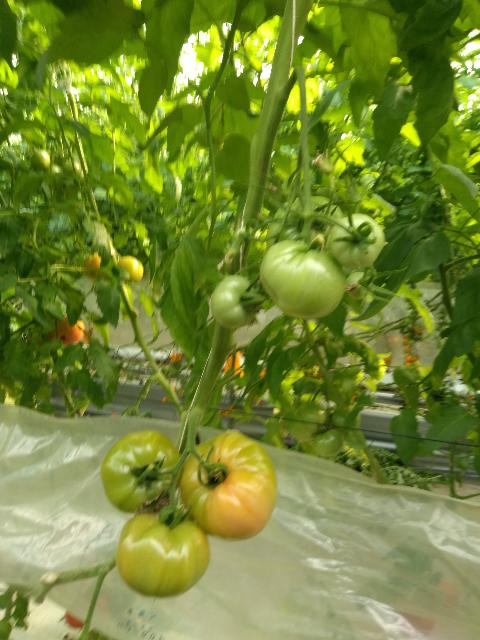b_green: (117, 511, 210, 597), (100, 430, 185, 513), (259, 240, 345, 319), (266, 196, 346, 270), (330, 213, 385, 269), (210, 276, 256, 328), (344, 272, 374, 299)
b_half_ripened: (179, 432, 279, 541)
